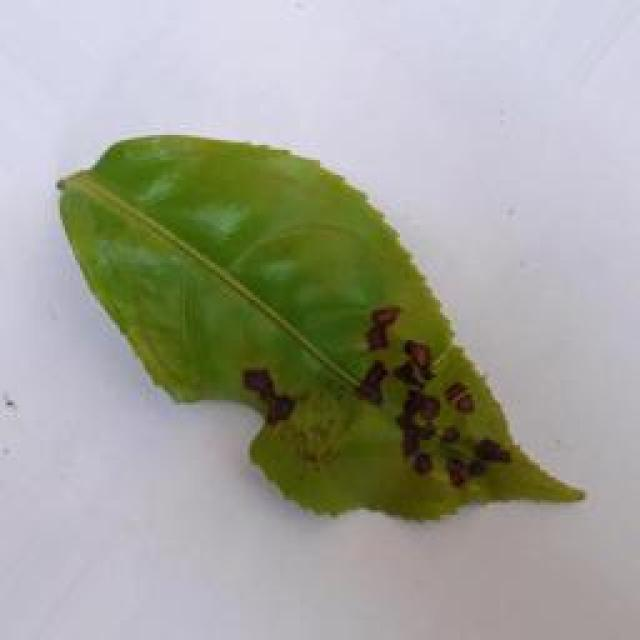Helopeltis: (58, 124, 590, 520)
